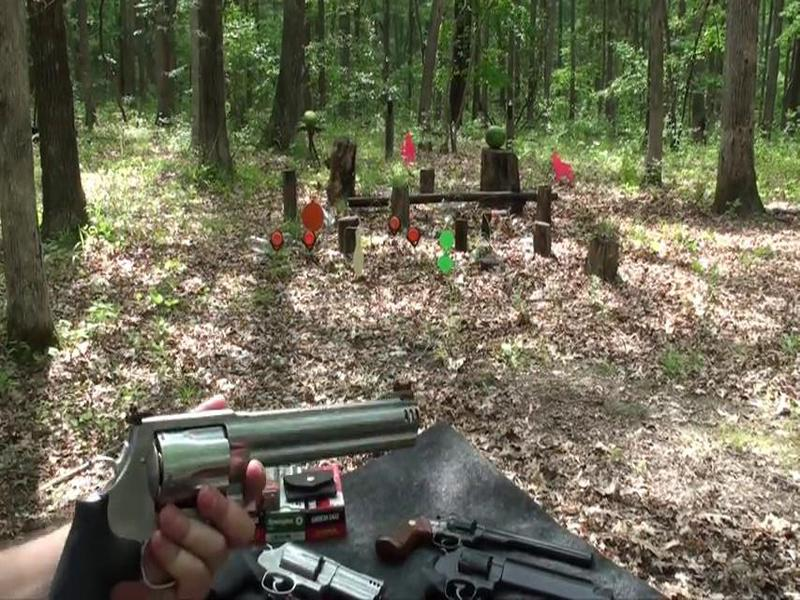Revolver: (70, 368, 415, 600)
